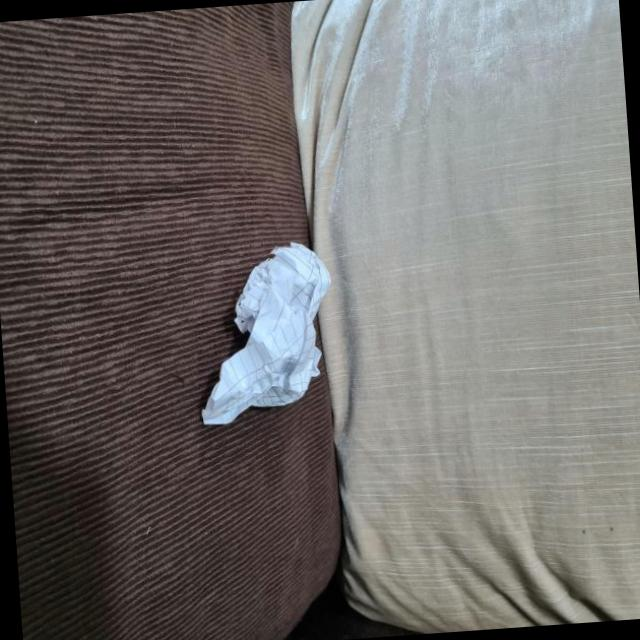cardboard paper: (202, 244, 329, 426)
